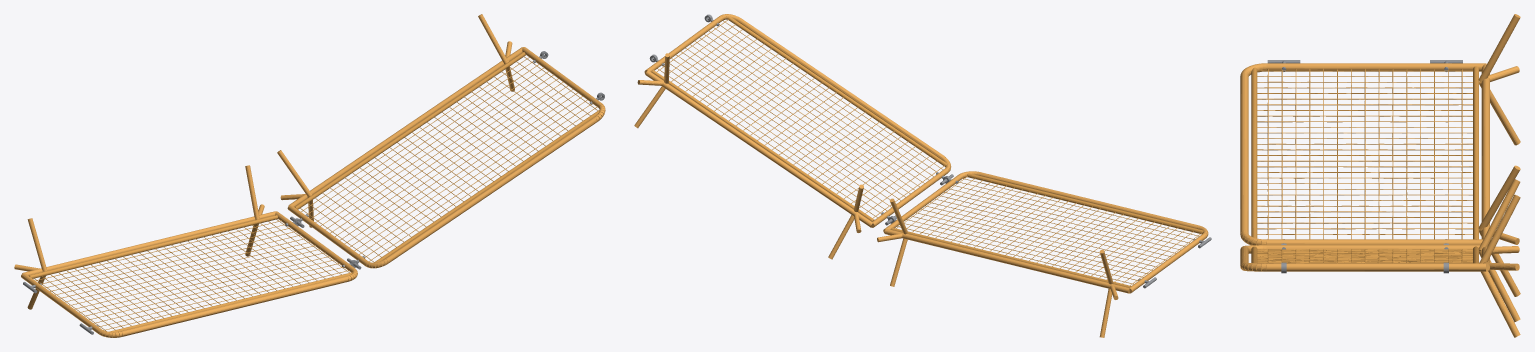
The model's file is size-panel_len_scale-0.95.glb.
3 renders of one model, left to right at view 1: azimuth 30°, elevation 25°; view 2: azimuth 150°, elevation 25°; view 3: azimuth 270°, elevation 25°, orthographic. The views are drawn at different scales.
Parts seen in each view (by area): view 1: panel_0__infill, panel_0__frame, panel_0__eye_top; view 2: panel_0__infill, panel_0__frame, panel_0__eye_top; view 3: panel_0__infill, panel_0__frame, panel_0__eye_top.
Part boxes in pixels (bbox=[...]): panel_0__infill: bbox=[29, 52, 599, 331]; panel_0__frame: bbox=[14, 14, 605, 337]; panel_0__eye_top: bbox=[23, 51, 604, 334]; panel_0__infill: bbox=[651, 16, 1203, 287]; panel_0__frame: bbox=[634, 14, 1208, 337]; panel_0__eye_top: bbox=[649, 14, 1211, 288]; panel_0__infill: bbox=[1251, 66, 1478, 263]; panel_0__frame: bbox=[1240, 14, 1520, 337]; panel_0__eye_top: bbox=[1267, 60, 1462, 273].
Size of the model in its own units: 3.9 by 1.33 by 1.28.
